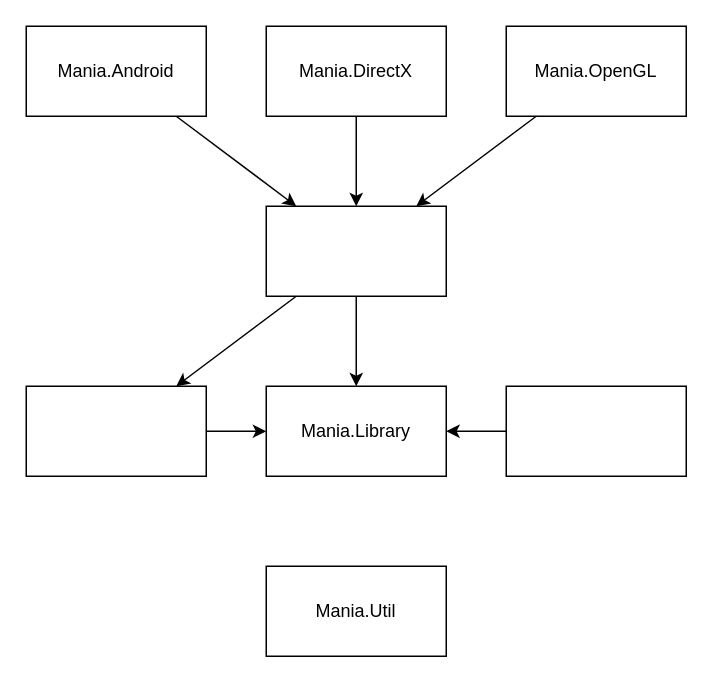
The diagram is 713 pixels wide and 683 high, and some of its shapes have lost their labels. Each missing label, with the centre of its shape:
Mania.Core: point 355,250
Mania.Engine: point 115,430
Mania.Pipeline: point 595,430
